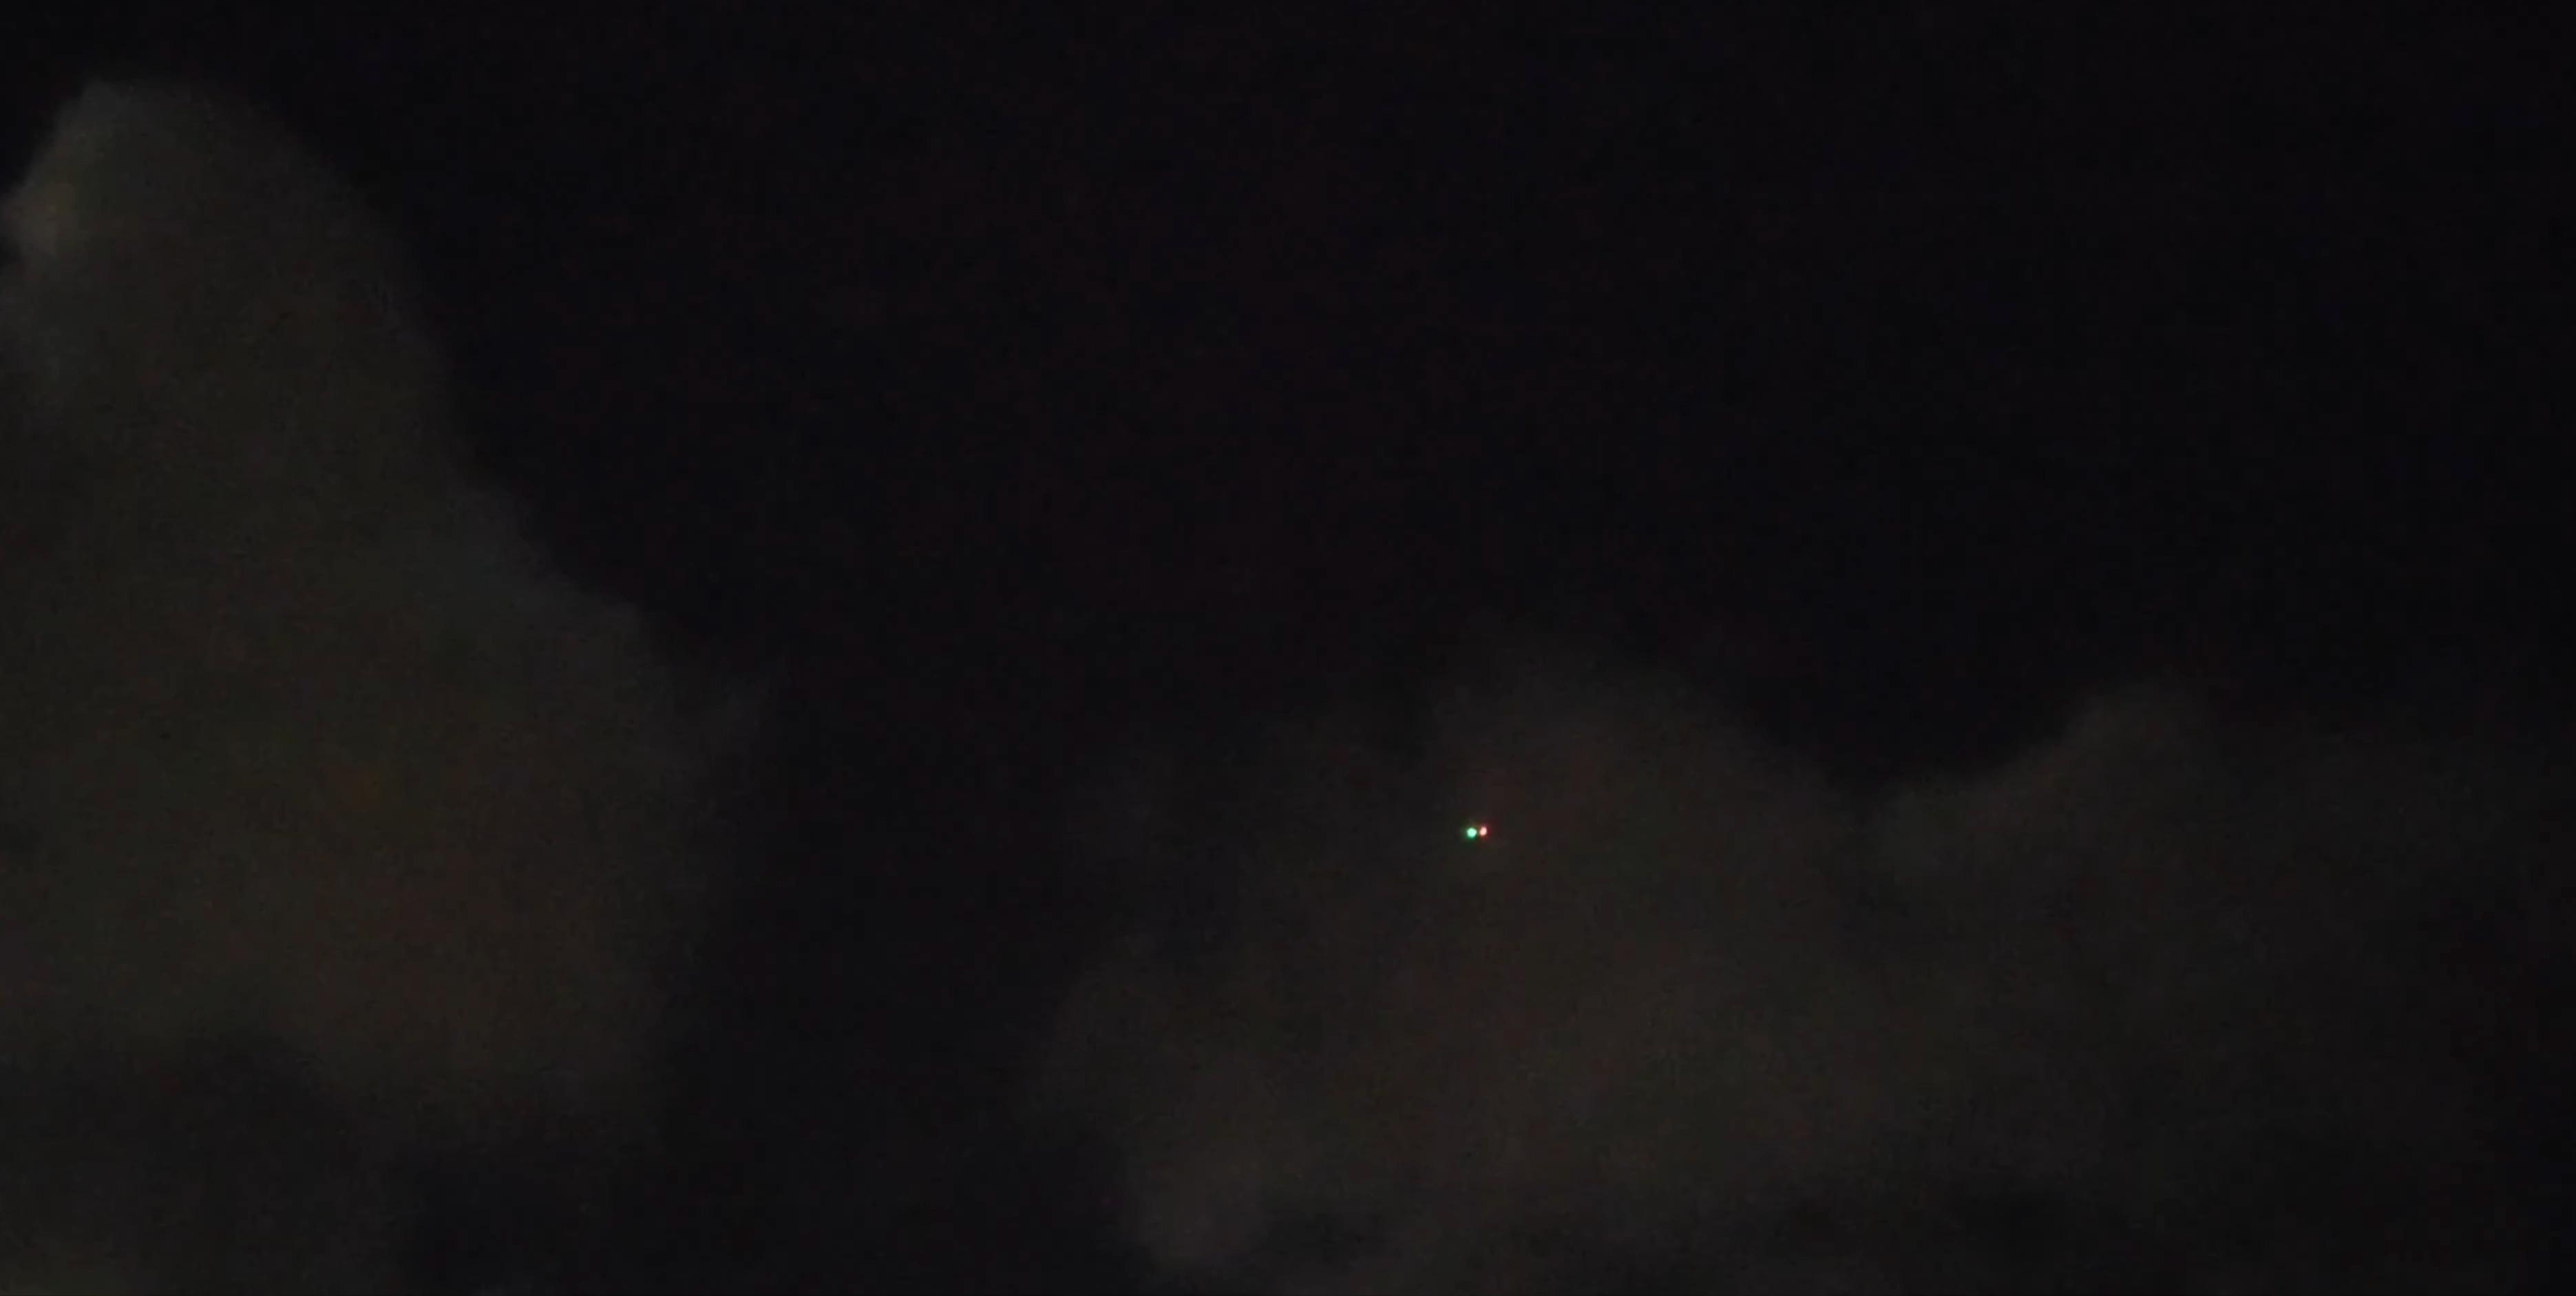Plane: (1457, 817, 1499, 851)
